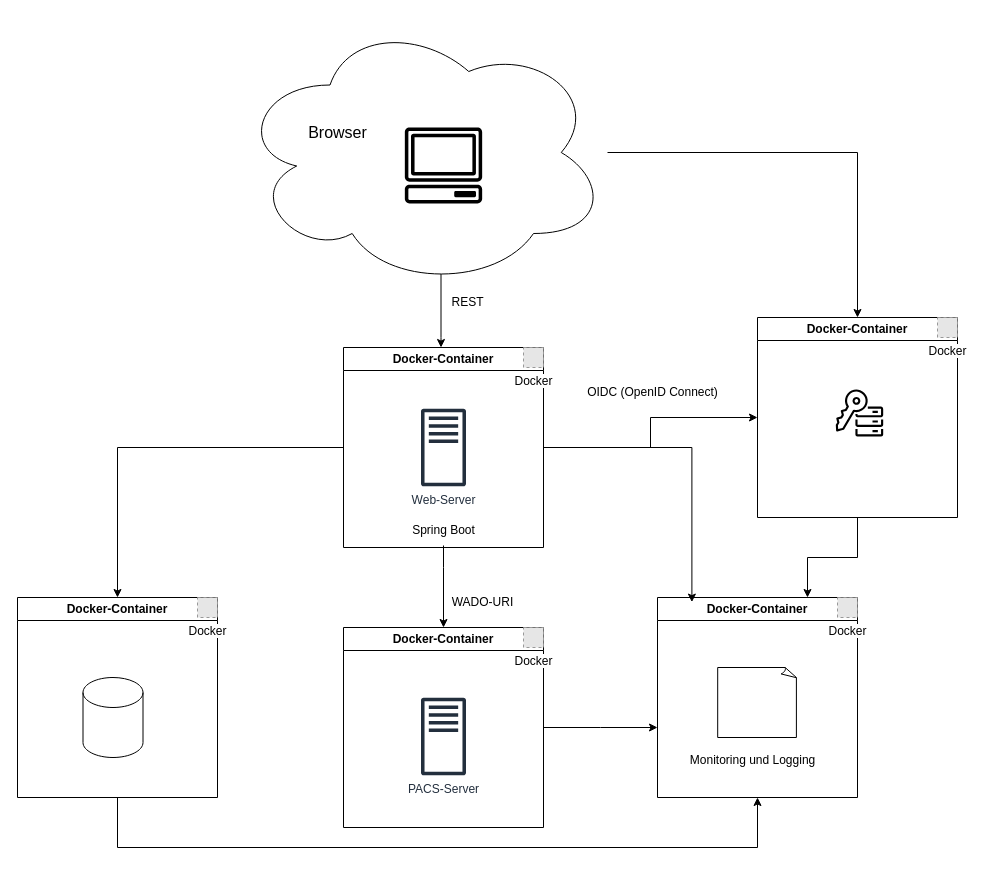
Image size: 984x873. Some labels were removed from this diagram. Grey dashed boxes stand in for pictures. The centre of each missing label's shape, as x and y in pixels:
"Database" goes at [112,717].
"Keycloak-Server" goes at [859,412].
"Protocol" goes at [757,702].
"Web-Client" goes at [443,165].
